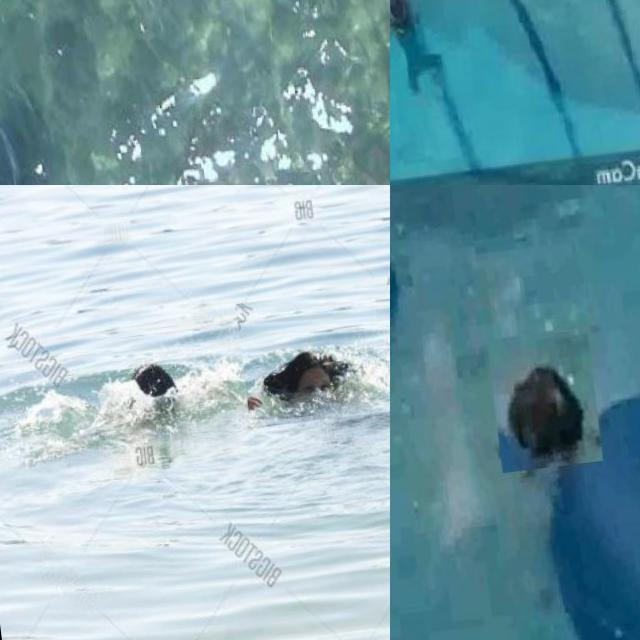drowning: (46, 324, 223, 462), (233, 284, 390, 429), (484, 328, 602, 473)
swimming: (390, 0, 449, 113)
